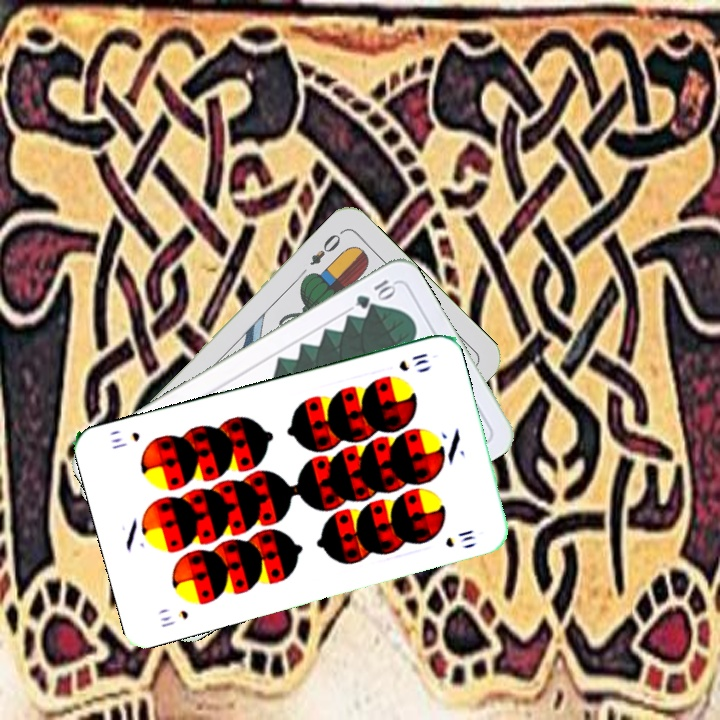EO: (305, 226, 346, 268)
G10: (351, 275, 398, 312)
S10: (395, 349, 431, 374), (155, 606, 191, 630)
